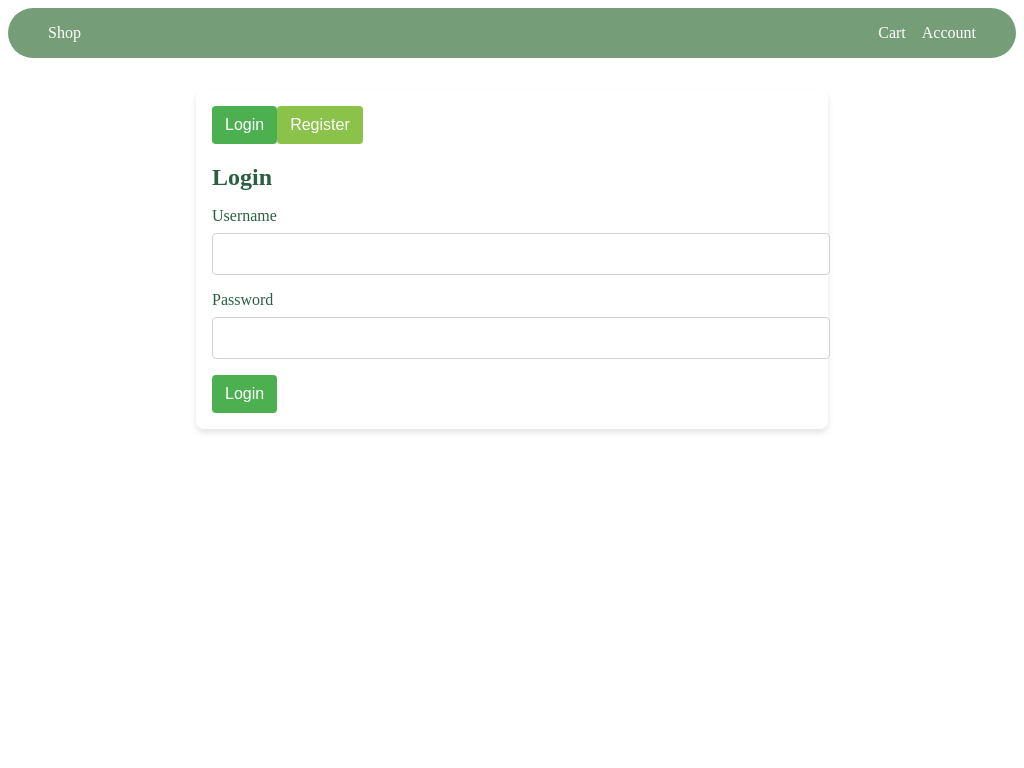
it: Account › should fail for invalid password format
This screenshot has width=1024, height=768.
Click the button "Register" at (320, 125), box [277,106,363,144]
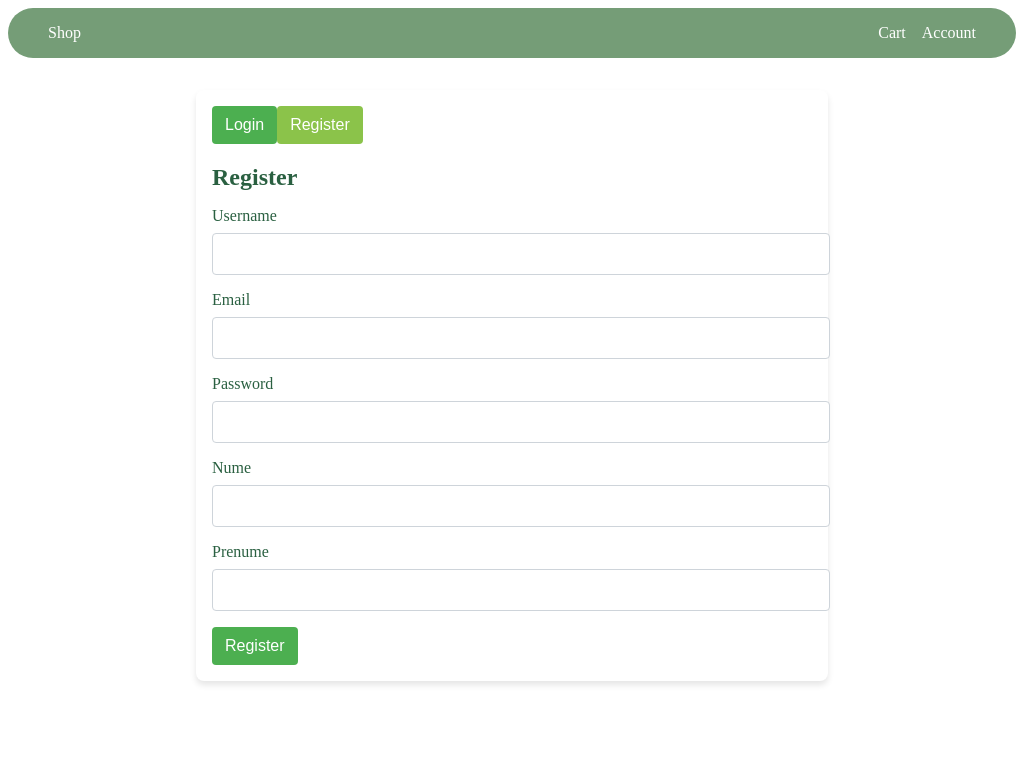
Type "usertest1" into the field named "username" at (521, 254), box [212,233,830,275]
Type "Password123" into the password field named "password" at (521, 422), box [212,401,830,443]
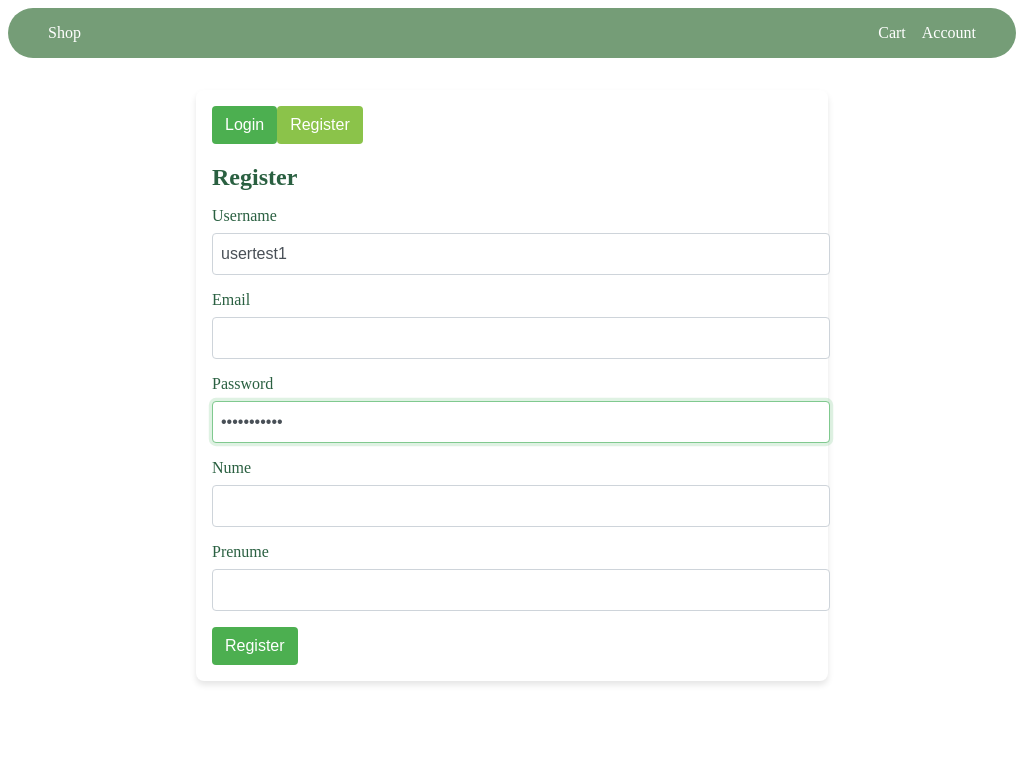
Type "Userescu" into the field named "nume" at (521, 506), box [212,485,830,527]
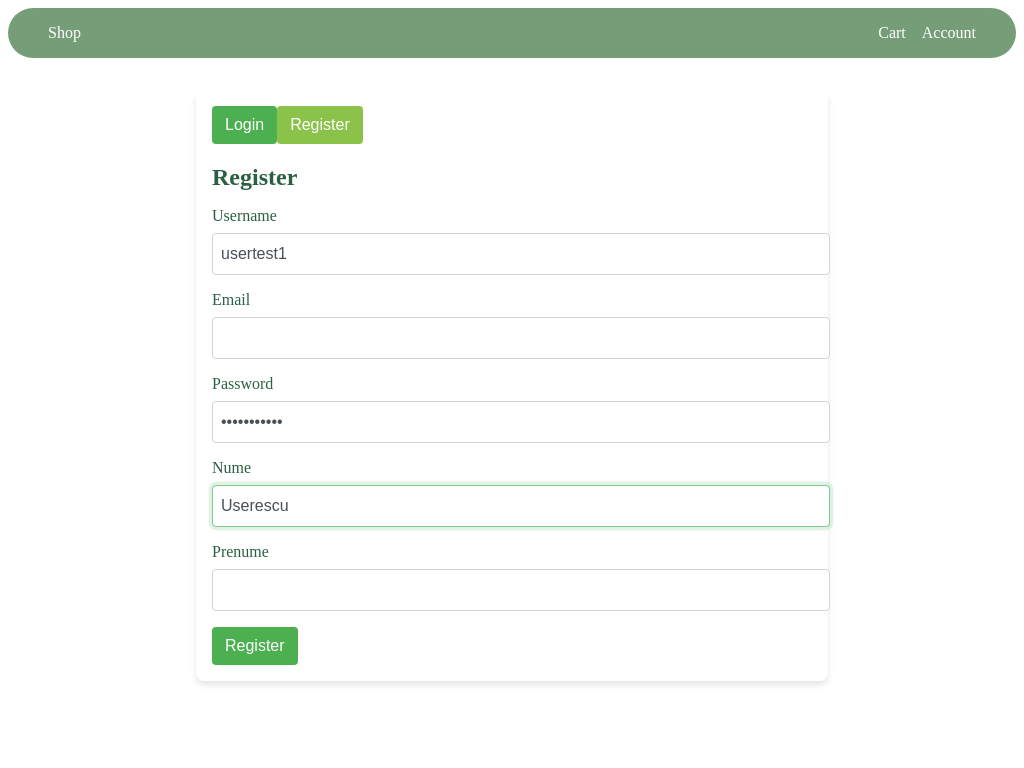
Type "Useru" into the field named "prenume" at (521, 590), box [212,569,830,611]
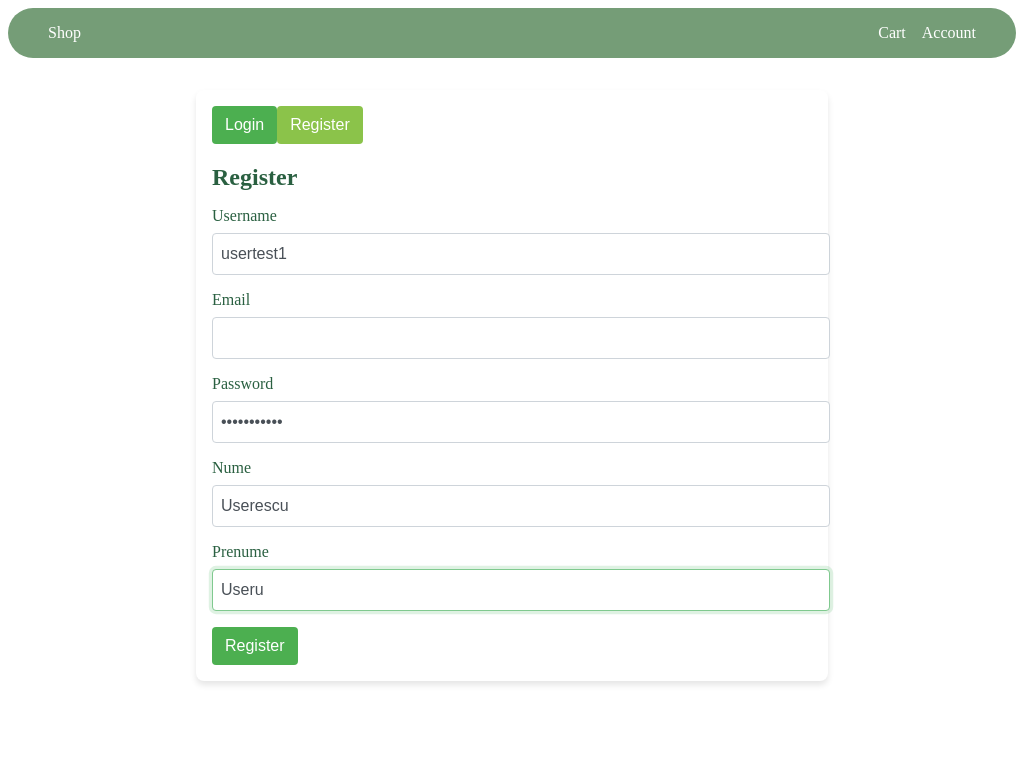
Type "user1.userescu@gmail.com" into the field named "email" at (521, 338), box [212,317,830,359]
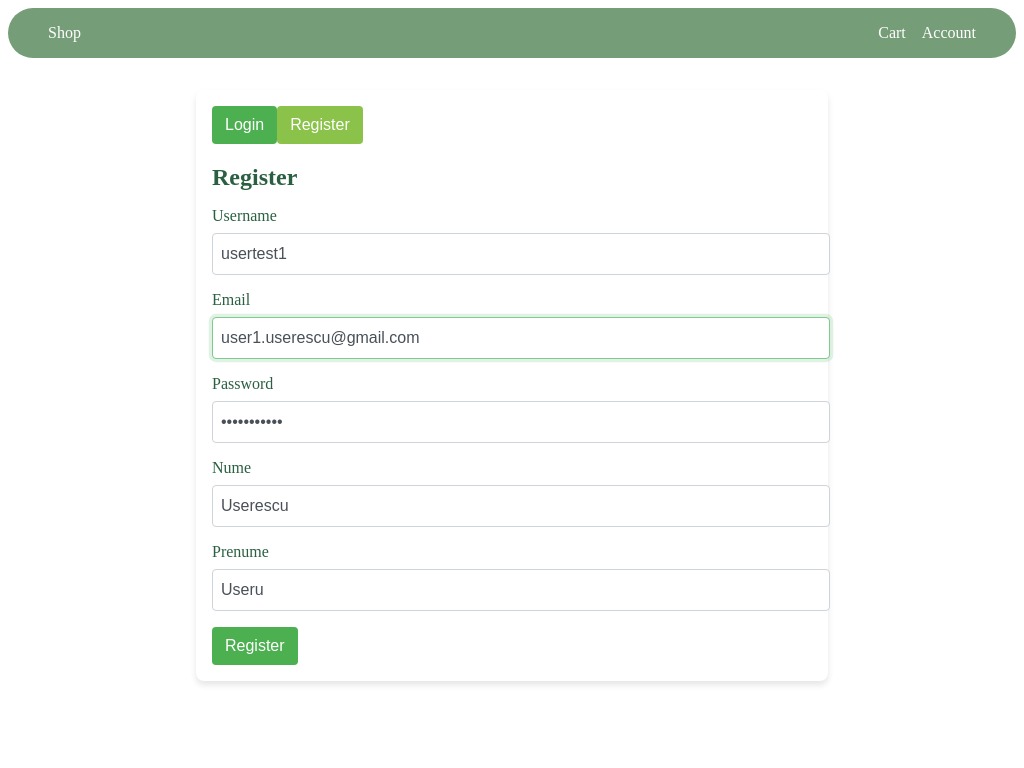
Click the submit button at (255, 646), box [212,627,298,665]
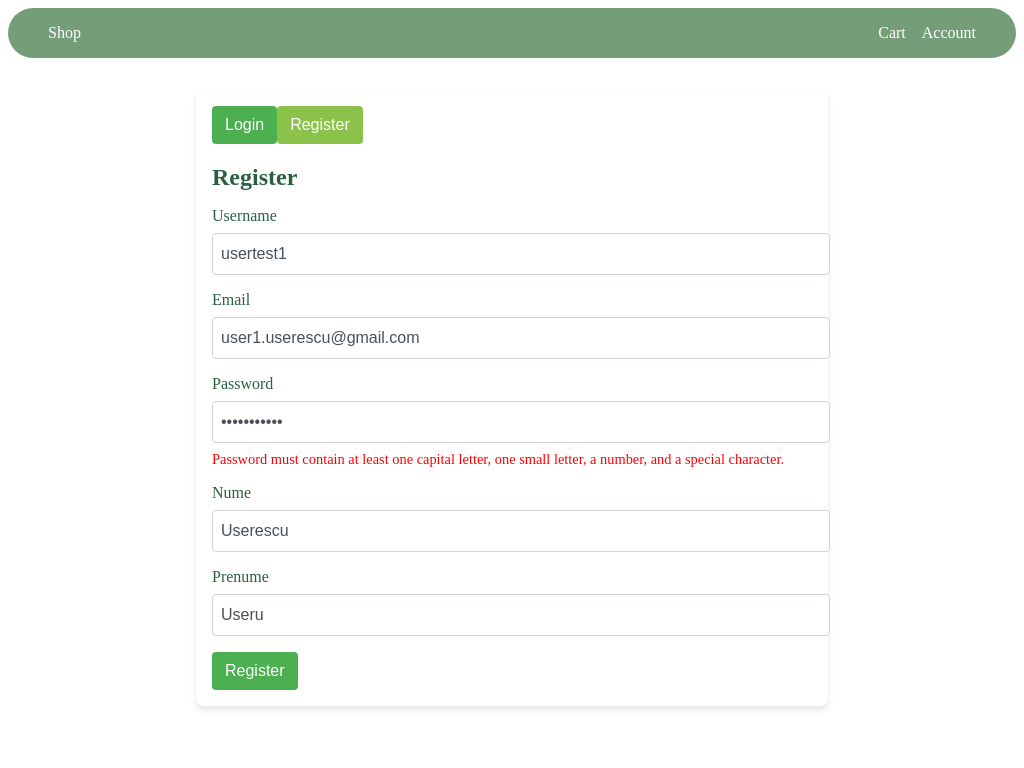
Now the text with class "error-message" shows "Password must contain at least one capital letter, one small letter, a number, and a special character.", box [212,451,812,468]
